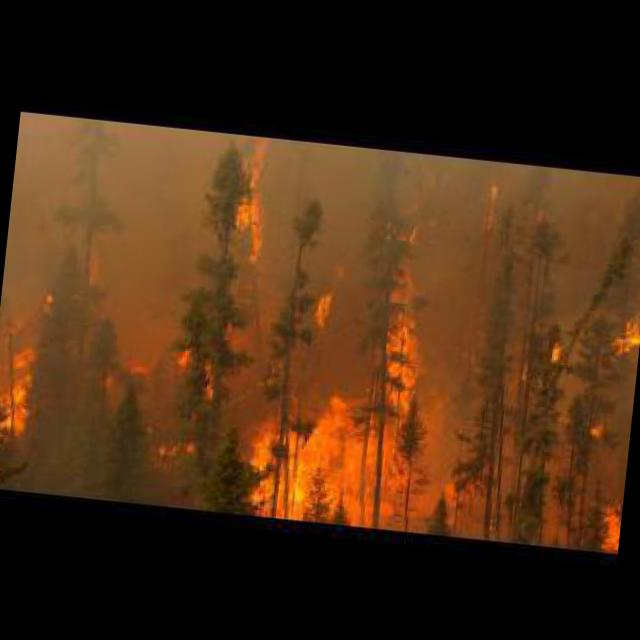fire: (248, 244, 447, 529), (0, 294, 53, 433), (237, 148, 270, 263), (599, 310, 640, 366), (172, 348, 218, 396), (150, 430, 193, 464), (310, 280, 340, 328), (599, 502, 622, 548), (483, 182, 498, 228), (549, 342, 563, 362), (590, 422, 604, 436)
